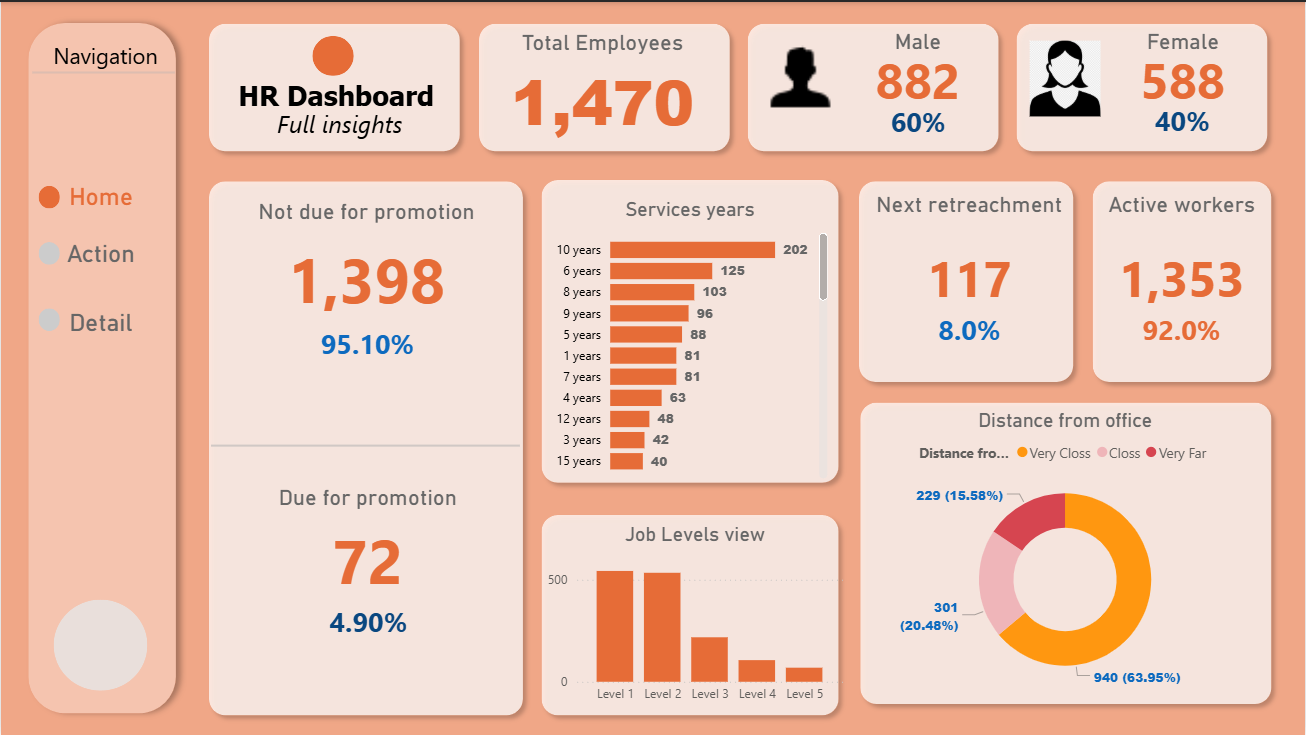

This screenshot's page, from the dashboard's own definition file:
{"tool":"powerbi","page":{"name":"Home","canvas":[1280,720],"ordinal":0},"visuals":[{"type":"shape","box":[16.5,9.6,166.5,699.2],"z":0},{"type":"shape","box":[195.4,12.4,264.3,143.1],"z":1000},{"type":"shape","box":[459.7,12.4,264.3,143.1],"z":2000},{"type":"shape","box":[724,12.4,264.3,143.1],"z":3000},{"type":"shape","box":[988.2,12.4,264.3,143.1],"z":4000},{"type":"shape","box":[195.4,166.5,326.2,542.3],"z":5000},{"type":"shape","box":[521.6,166.2,309.7,315.2],"z":6000},{"type":"shape","box":[521.6,494.1,309.7,214.7],"z":7000},{"type":"shape","box":[834.8,384.2,421.6,314.1],"z":8000},{"type":"shape","box":[833.6,166.7,228.3,215],"z":9000},{"type":"shape","box":[1063.1,166.7,193.3,215],"z":10000},{"type":"textbox","box":[209.7,71.2,238.7,51.4],"z":11000},{"type":"textbox","box":[36.8,33.1,131.3,51.5],"z":12000},{"type":"textbox","box":[209.7,97.6,251.9,55.4],"z":13000},{"type":"shape","box":[305.9,33,40.9,39.6],"z":14000},{"type":"card","title":"Total Employees","fields":{"Values":["All Measures.Total Emp"]},"box":[468,27.5,246.4,112.9],"z":15000},{"type":"card","title":"Male","fields":{"Values":["All Measures.Male"]},"box":[814.8,26.2,170.7,75.7],"z":16000},{"type":"card","fields":{"Values":["All Measures.Male %"]},"box":[834.1,90.8,132.1,55.1],"z":17000},{"type":"card","title":"Female","fields":{"Values":["All Measures.Female"]},"box":[1068.7,26.2,183.1,75.7],"z":18000},{"type":"card","fields":{"Values":["All Measures.Female %"]},"box":[1083.9,90.8,152.8,53.7],"z":19000},{"type":"image","box":[736.3,26.2,95,90.8],"z":20000},{"type":"actionButton","title":"Home","box":[27.8,176.4,140.1,30.2],"z":21000},{"type":"image","box":[1004.7,33,79.8,84],"z":22000},{"type":"actionButton","title":"Action","box":[27.7,233.4,139.8,56.7],"z":23000},{"type":"card","title":"Active workers","fields":{"Values":["All Measures.On service"]},"box":[1058.3,186,203,142.6],"z":24000},{"type":"actionButton","title":"Detail","box":[28.2,282.2,138.7,57.7],"z":25000},{"type":"card","fields":{"Values":["All Measures.% Active workers"]},"box":[1082.4,296,153.4,53.2],"z":26000},{"type":"card","title":"Next retreachment","fields":{"Values":["All Measures.Due for retirment"]},"box":[843.2,186,215,142.6],"z":27000},{"type":"card","fields":{"Values":["All Measures.%Due for retirment"]},"box":[865,296,171.5,53.2],"z":28000},{"type":"columnChart","title":"Job Levels view","fields":{"Category":["HR Analytics Data.Job Level"],"Y":["All Measures.Total Emp"]},"box":[531.3,512,300,185.8],"z":29000},{"type":"barChart","title":"Services years","fields":{"Category":["HR Analytics Data.Total working Years"],"Y":["All Measures.Total Emp"]},"box":[536.4,192.1,280.3,280.3],"z":30000},{"type":"donutChart","title":"Distance from office","fields":{"Category":["HR Analytics Data.Distance from office"],"Y":["All Measures.Total Emp"]},"box":[840.8,399.9,408.3,282.7],"z":31000},{"type":"card","title":"Not due for promotion","fields":{"Values":["All Measures.Not Due"]},"box":[207.8,192.1,303.2,130.5],"z":32000},{"type":"card","title":"Due for promotion","fields":{"Values":["All Measures.Due for promotion"]},"box":[209,473.8,303.2,119.6],"z":33000},{"type":"shape","box":[206.6,427.7,303.2,14.5],"z":34000},{"type":"card","fields":{"Values":["All Measures.% Not due for promotion"]},"box":[283.5,309.7,152.8,53.7],"z":35000},{"type":"card","fields":{"Values":["All Measures.% Due for promotion"]},"box":[285.1,582.5,152.2,53.2],"z":36000},{"type":"shape","box":[36.9,180.7,21.1,22.4],"z":37000},{"type":"shape","box":[36.9,236,21.1,22.4],"z":38000},{"type":"shape","box":[36.8,287.1,20.9,22.1],"z":39000},{"type":"shape","box":[51.4,586.8,92.3,89.7],"z":40000},{"type":"shape","box":[30.2,61.6,140.1,15.7],"z":41000}]}

Visuals, with their boxes in screenshot pixels (x1, y1, x2, y2), scaled from the page's 1280x720 canvas onto the 1306x735 screenshot:
shape: rect(17, 10, 187, 724)
shape: rect(199, 13, 469, 159)
shape: rect(469, 13, 739, 159)
shape: rect(739, 13, 1008, 159)
shape: rect(1008, 13, 1278, 159)
shape: rect(199, 170, 532, 724)
shape: rect(532, 170, 848, 491)
shape: rect(532, 504, 848, 724)
shape: rect(852, 392, 1282, 713)
shape: rect(851, 170, 1083, 390)
shape: rect(1085, 170, 1282, 390)
textbox: rect(214, 73, 458, 125)
textbox: rect(38, 34, 172, 86)
textbox: rect(214, 100, 471, 156)
shape: rect(312, 34, 354, 74)
"Total Employees" card: rect(478, 28, 729, 143)
"Male" card: rect(831, 27, 1006, 104)
card - All Measures.Male %: rect(851, 93, 986, 149)
"Female" card: rect(1090, 27, 1277, 104)
card - All Measures.Female %: rect(1106, 93, 1262, 148)
image: rect(751, 27, 848, 119)
"Home" actionButton: rect(28, 180, 171, 211)
image: rect(1025, 34, 1107, 119)
"Action" actionButton: rect(28, 238, 171, 296)
"Active workers" card: rect(1080, 190, 1287, 335)
"Detail" actionButton: rect(29, 288, 170, 347)
card - All Measures.% Active workers: rect(1104, 302, 1261, 356)
"Next retreachment" card: rect(860, 190, 1080, 335)
card - All Measures.%Due for retirment: rect(883, 302, 1058, 356)
"Job Levels view" columnChart: rect(542, 523, 848, 712)
"Services years" barChart: rect(547, 196, 833, 482)
"Distance from office" donutChart: rect(858, 408, 1274, 697)
"Not due for promotion" card: rect(212, 196, 521, 329)
"Due for promotion" card: rect(213, 484, 523, 606)
shape: rect(211, 437, 520, 451)
card - All Measures.% Not due for promotion: rect(289, 316, 445, 371)
card - All Measures.% Due for promotion: rect(291, 595, 446, 649)
shape: rect(38, 184, 59, 207)
shape: rect(38, 241, 59, 264)
shape: rect(38, 293, 59, 316)
shape: rect(52, 599, 147, 691)
shape: rect(31, 63, 174, 79)
